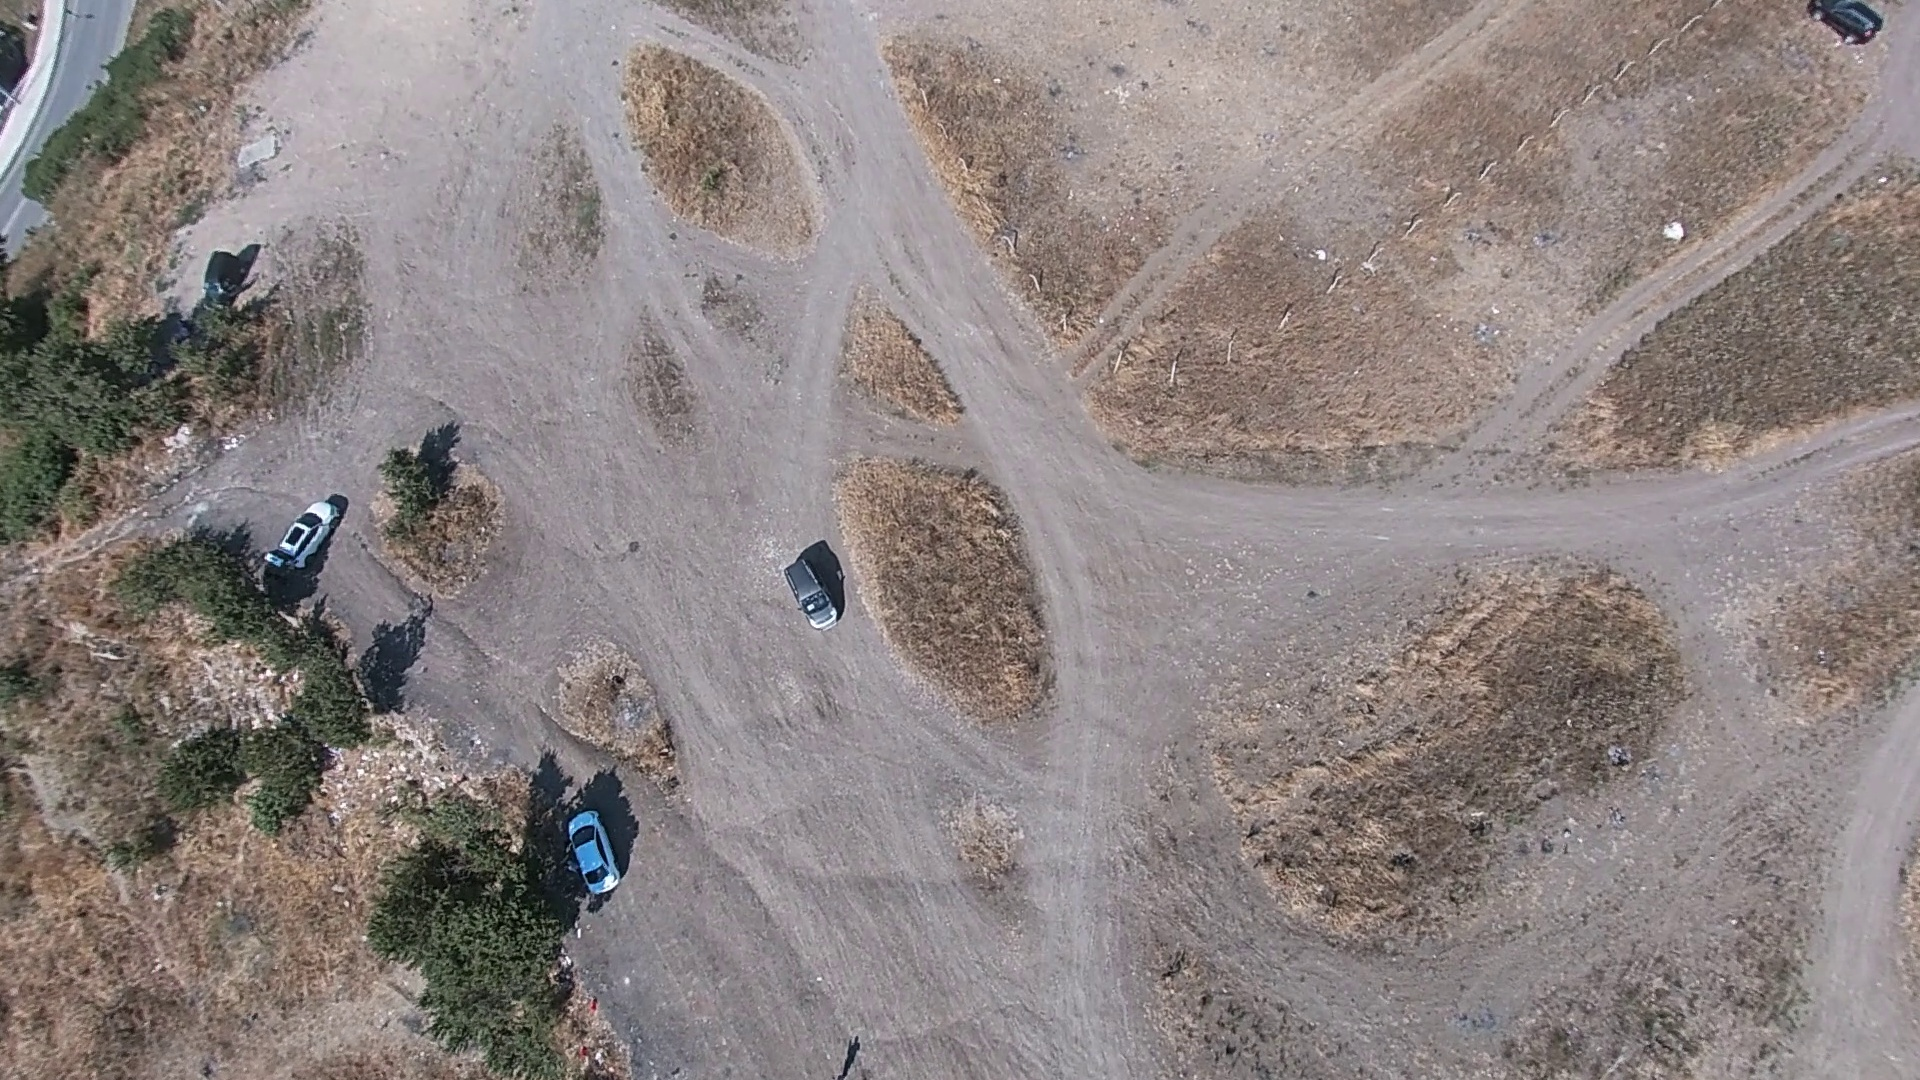arac: (260, 492, 345, 578), (559, 804, 620, 899), (775, 545, 840, 628)
